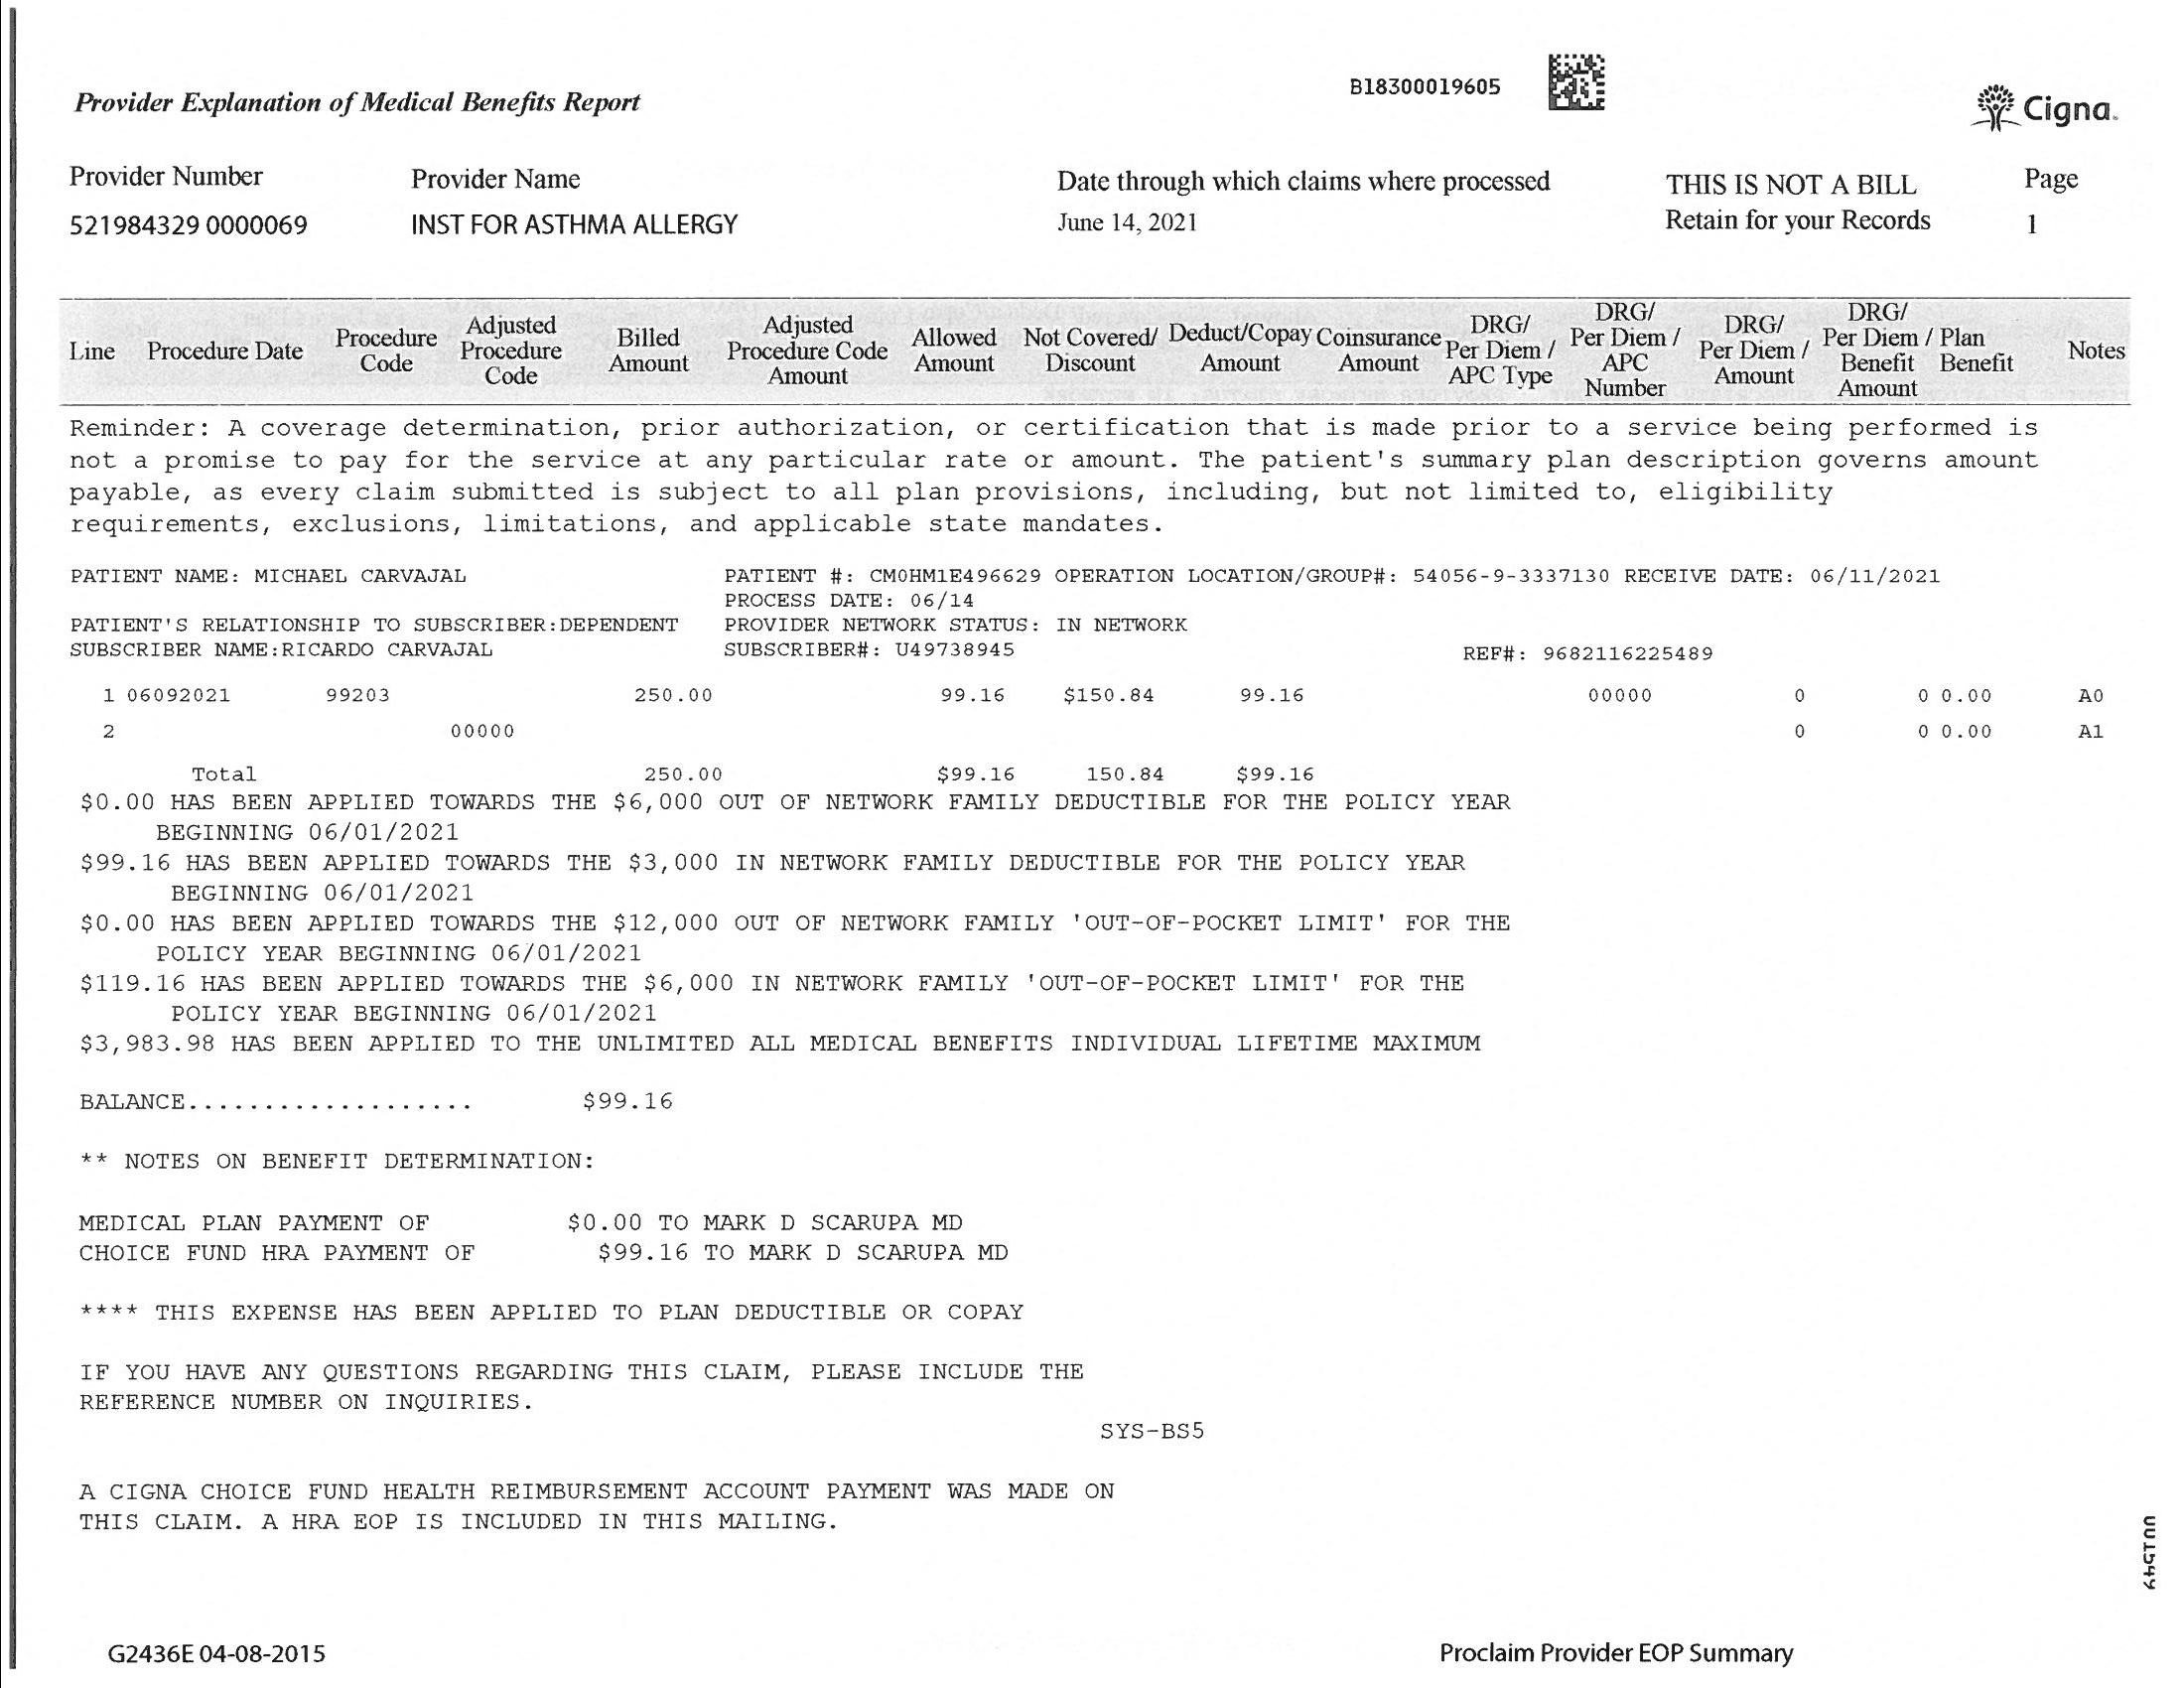data: (57, 160, 753, 254)
